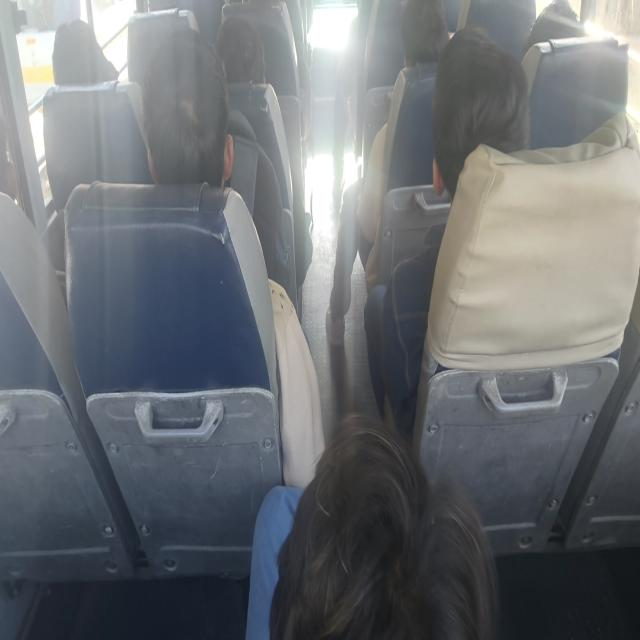person: (140, 27, 326, 487), (363, 25, 531, 433), (245, 412, 501, 638), (356, 0, 450, 276), (140, 28, 234, 188), (51, 18, 119, 86), (214, 15, 266, 84)
